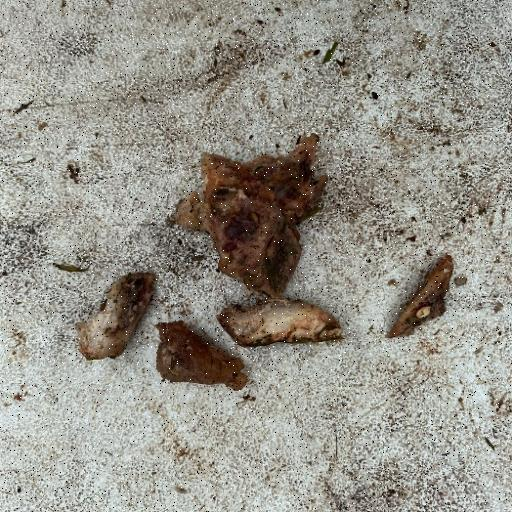Waste: (72, 129, 456, 392), (167, 131, 330, 301), (74, 270, 156, 362), (153, 318, 249, 392), (215, 297, 343, 348), (384, 252, 454, 340)
